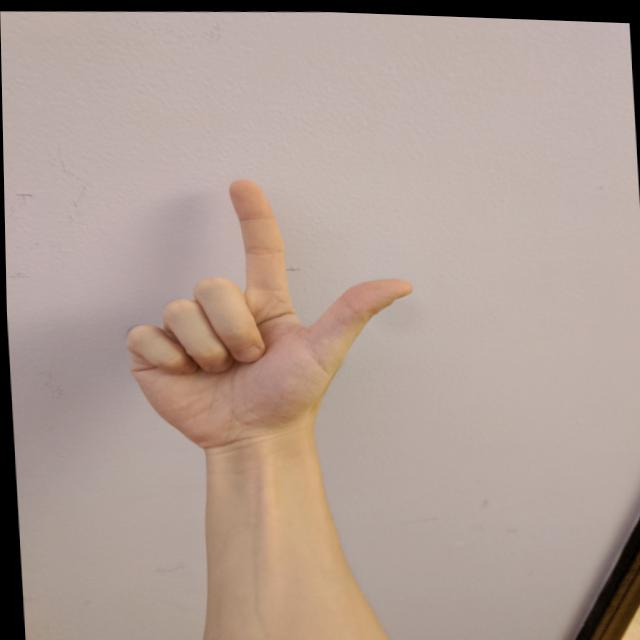L: (106, 161, 428, 466)
